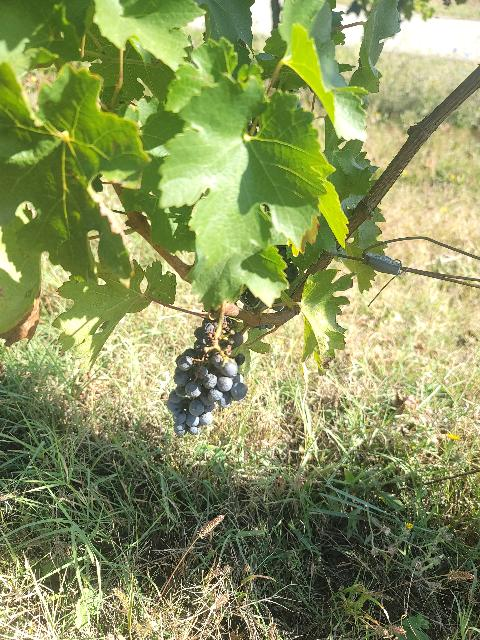grapes: (166, 319, 248, 435)
